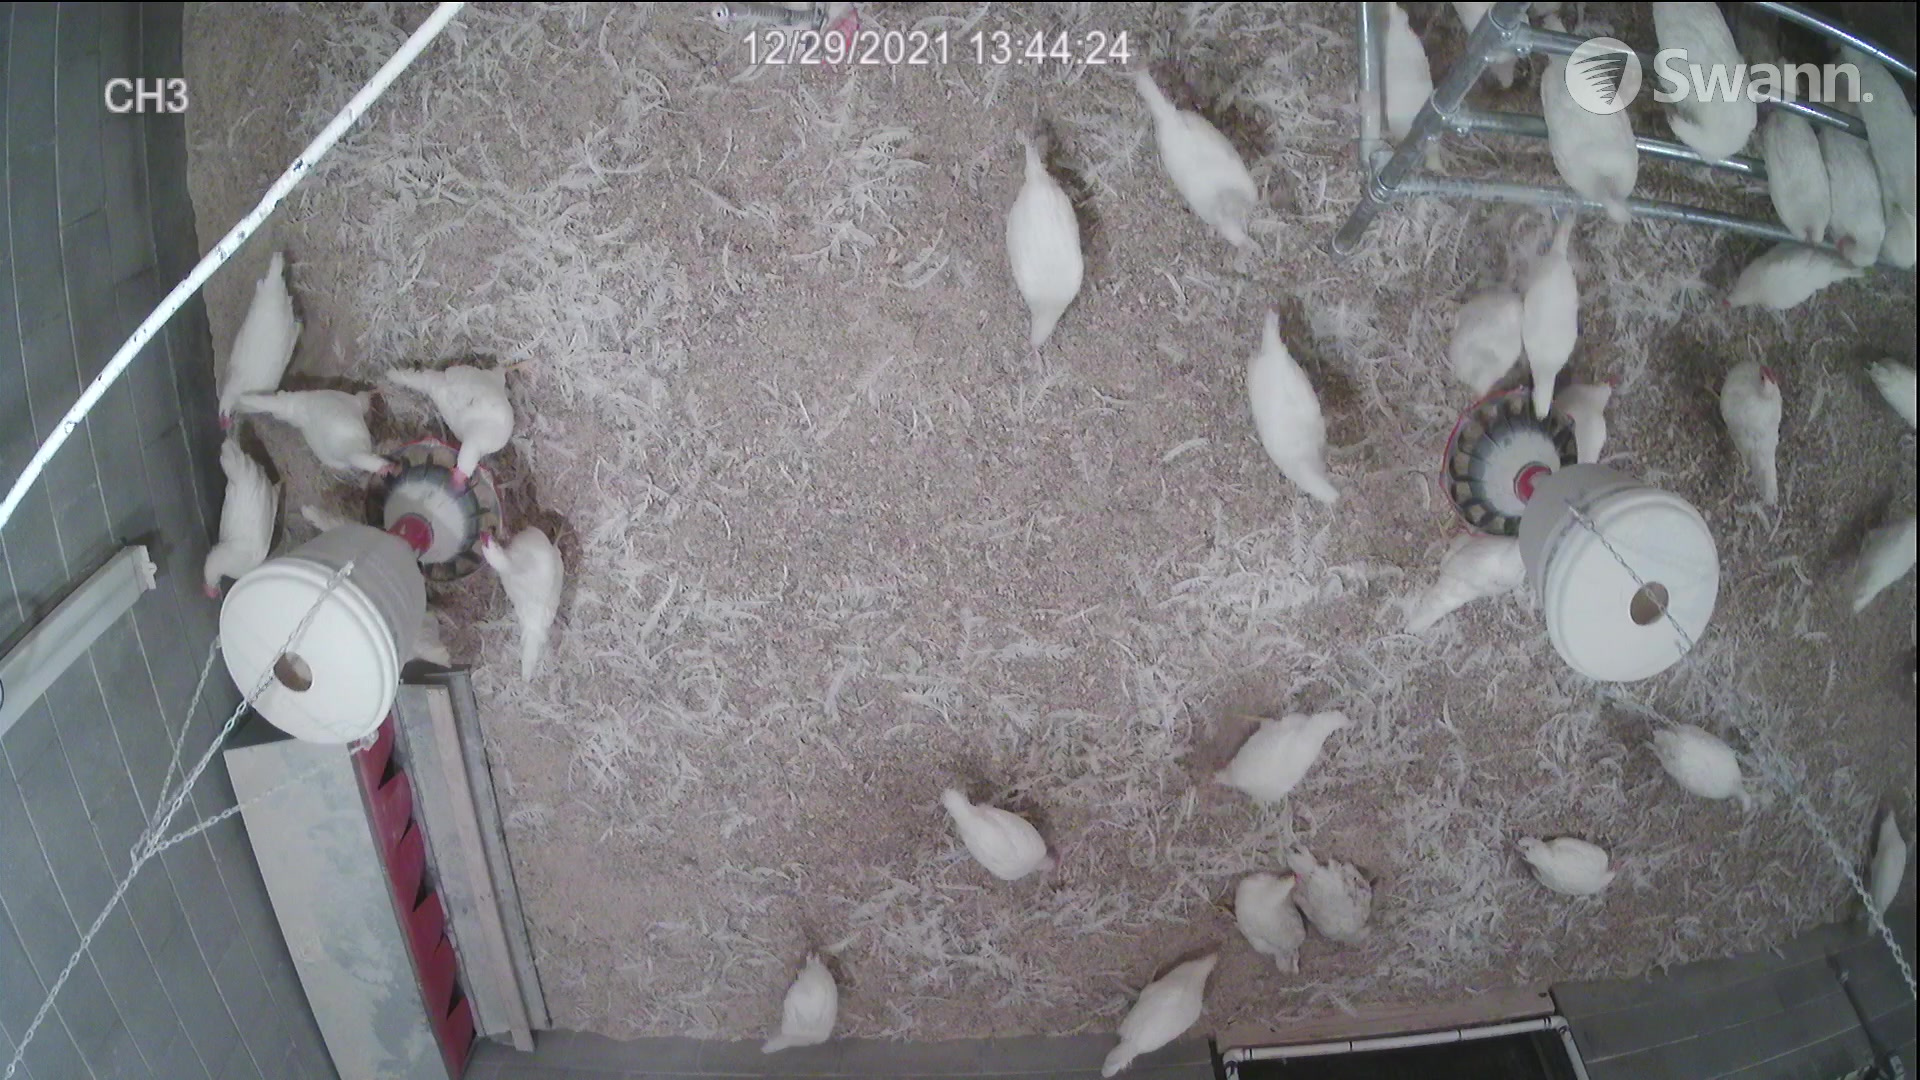Dust Bathing: (1294, 855, 1395, 945)
Feeding: (389, 352, 525, 487), (236, 382, 397, 476), (465, 516, 563, 670), (1516, 214, 1578, 433)
Foraging: (1000, 138, 1105, 345), (1193, 708, 1353, 818), (1106, 949, 1222, 1080), (945, 775, 1062, 890), (1513, 822, 1622, 899)
Perching: (1531, 15, 1639, 214), (1829, 15, 1920, 225), (1636, 0, 1753, 157), (1755, 103, 1829, 236), (1826, 135, 1894, 266)
